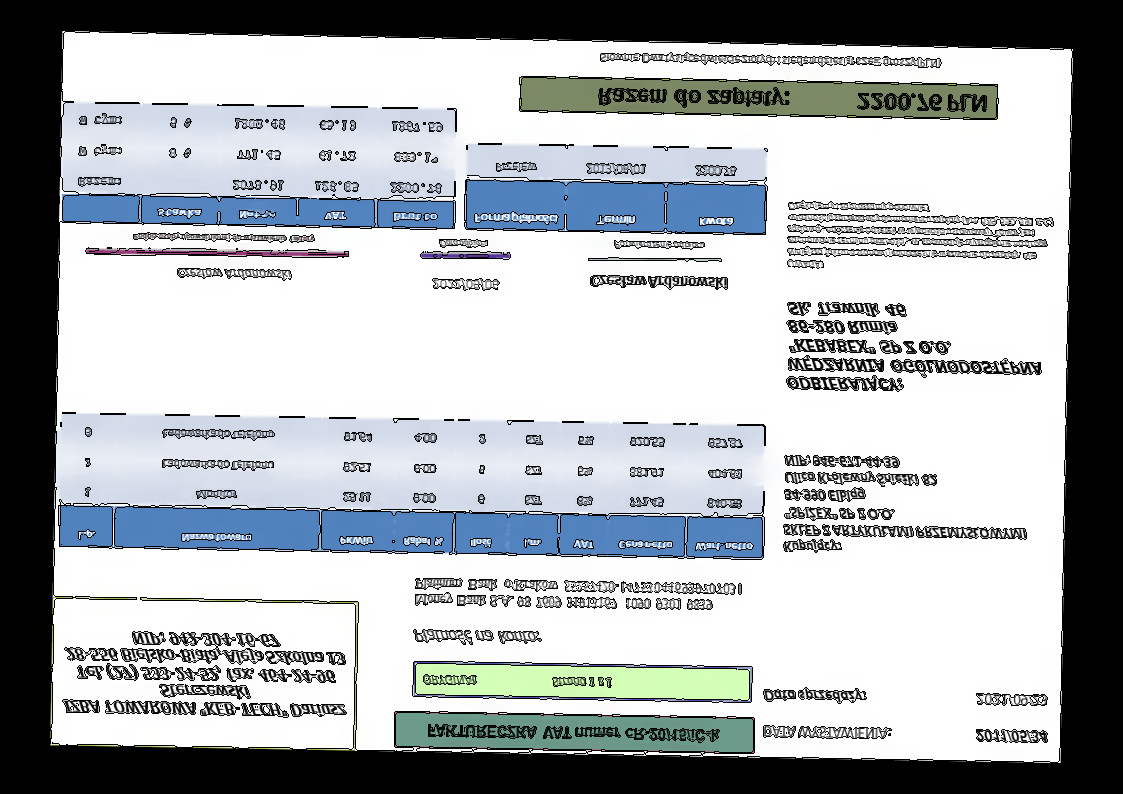Table: (57, 411, 768, 562), (60, 100, 458, 231), (463, 141, 769, 238)
TextBox: (59, 626, 349, 723), (780, 451, 1033, 561), (783, 298, 1046, 396), (785, 198, 1056, 277), (411, 575, 746, 615), (595, 83, 989, 116), (597, 48, 943, 72), (425, 721, 723, 746), (419, 671, 614, 693), (129, 230, 317, 247), (586, 272, 731, 294), (410, 626, 544, 649), (760, 723, 893, 744), (175, 265, 294, 285), (762, 685, 868, 707), (974, 726, 1050, 747), (973, 690, 1049, 710), (610, 238, 707, 253), (431, 275, 500, 293), (435, 237, 491, 251)
